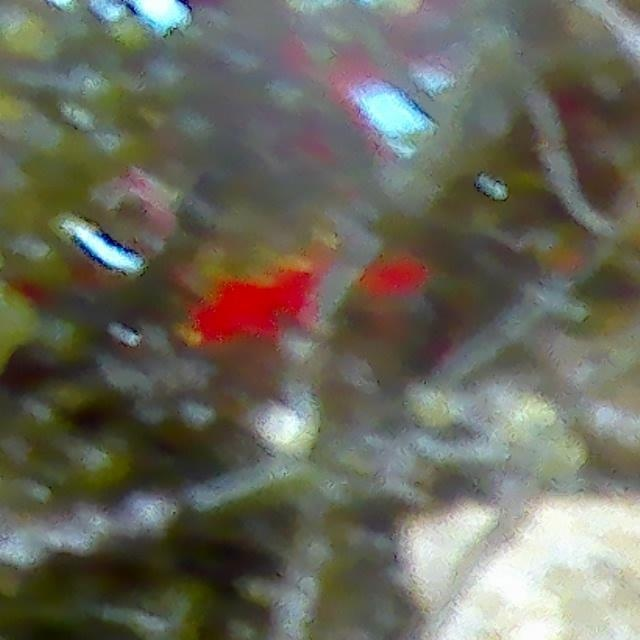SeaGrape: (0, 0, 59, 69), (258, 403, 311, 452)
